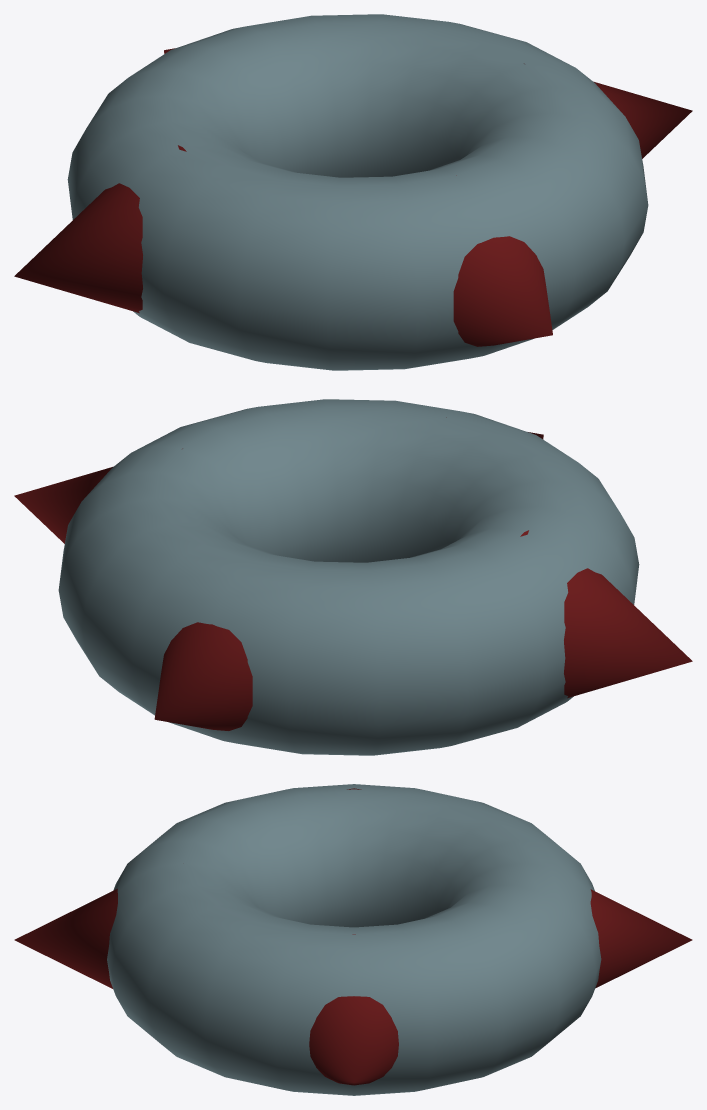
File: Monster1.fbx
3 renders of one model, top to bottom at view 1: azimuth 30°, elevation 25°; view 2: azimuth 150°, elevation 25°; view 3: azimuth 270°, elevation 25°, orthographic. The views are drawn at different scales.
Parts seen in each view (by area): view 1: pTorus1, pCone1, pCone3, pCone2; view 2: pTorus1, pCone1, pCone4, pCone2; view 3: pTorus1, pCone2, pCone3, pCone4.
Boxes of the visible parts, box(x1,y1,x2,y2) form: pTorus1: box(67, 14, 648, 370); pCone1: box(14, 145, 186, 313); pCone3: box(453, 175, 552, 346); pCone2: box(524, 63, 692, 158); pTorus1: box(58, 399, 639, 755); pCone1: box(520, 530, 692, 698); pCone4: box(154, 622, 252, 730); pCone2: box(14, 448, 182, 543); pTorus1: box(107, 784, 601, 1095); pCone2: box(309, 934, 398, 1085); pCone3: box(14, 888, 117, 988); pCone4: box(590, 889, 692, 988).
Bounding box in the file's own units: 4.03 × 1 × 4.
